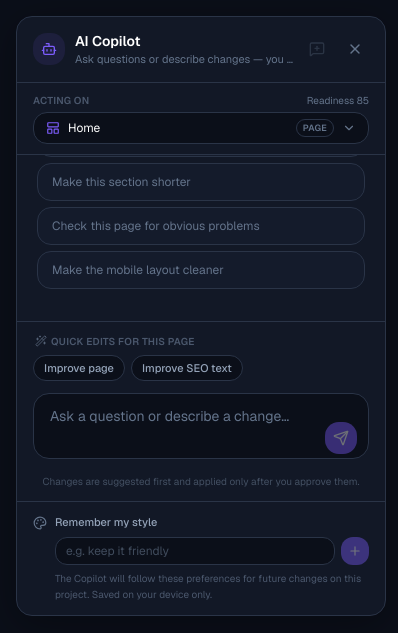
Test: starter prompts › sends a starter prompt as a user message
(page scrolled)
Click the button with test id "copilot-starter-check-this-page-for-obvious-problems": click(201, 226) [37, 207, 365, 245]
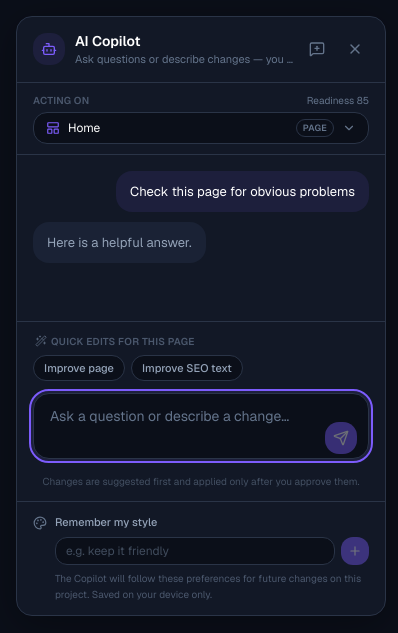
Expected: the element with test id "copilot-msg-user" reads "Check this page for obvious problems", [130, 182, 355, 200]
Expected: the text "Here is a helpful answer." is shown, [33, 222, 206, 263]
